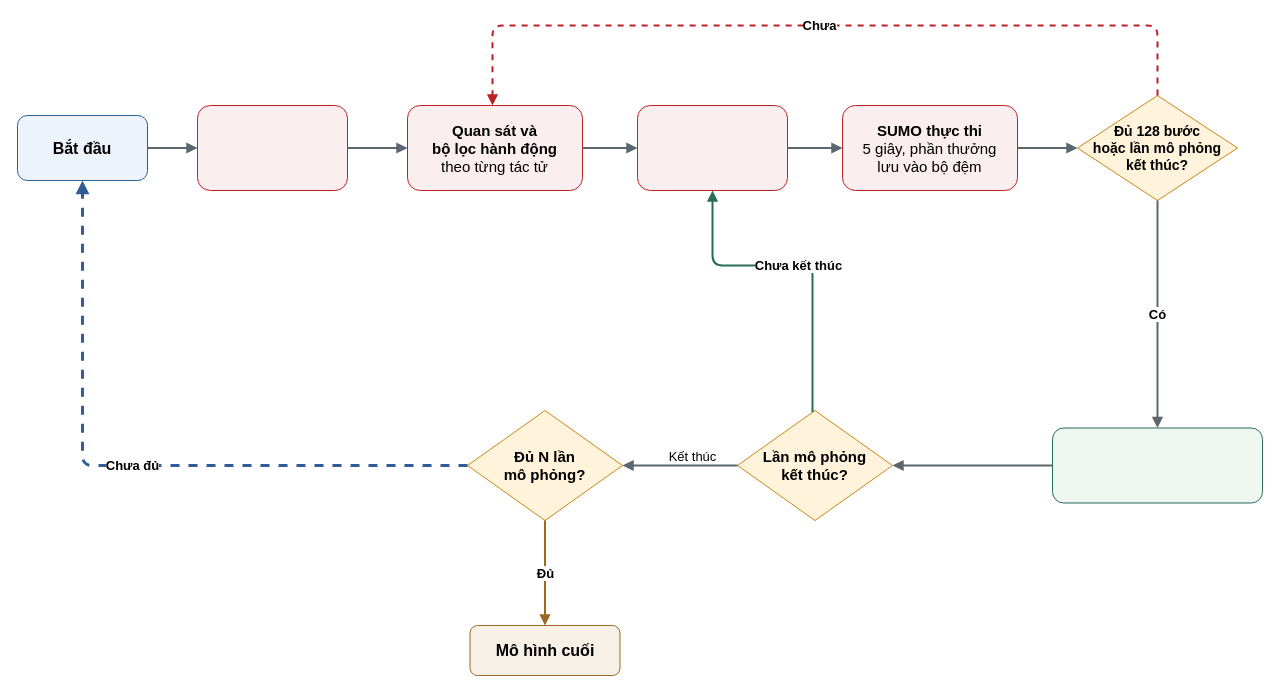
This 1280x693 diagram has some shape labels left out. Each missing label, with the centre of its shape:
"Actor chọn hành động cho từng tác tử" goes at (712,147).
"Critic ước lượng giá trị GAE và PPO cập nhật actor và critic" goes at (1157,465).
"Trạng thái từ SUMO cho 41 tác tử" goes at (272,147).
